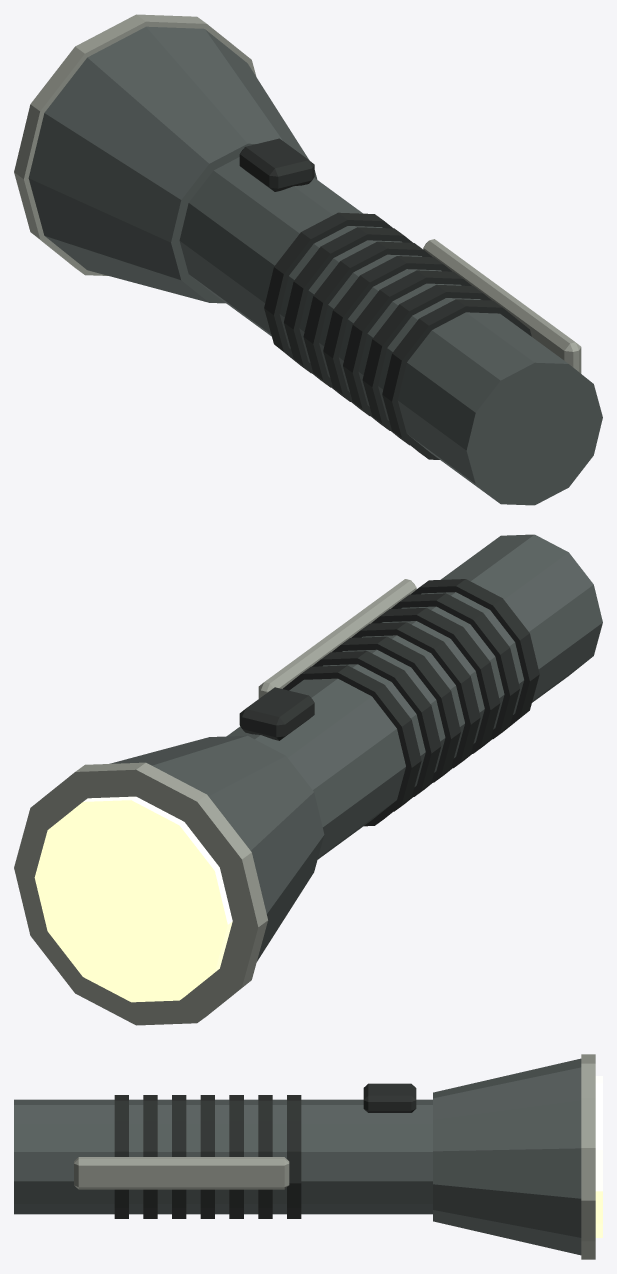
Rendered from torch.glb.
3 views of the same model, one above another, from view 1: azimuth 30°, elevation 25°; view 2: azimuth 150°, elevation 25°; view 3: azimuth 270°, elevation 25° (orthographic). The views are drawn at different scales.
Parts seen in each view (by area): view 1: barrel, reflector housing, bezel, grip ring 6, clip, grip ring 4, grip ring 3, grip ring 1, grip ring 2, grip ring 0, grip ring 5, switch; view 2: barrel, lens, bezel, reflector housing, grip ring 0, grip ring 1, grip ring 3, grip ring 6, grip ring 5, grip ring 4, grip ring 2, clip (+1 smaller); view 3: barrel, reflector housing, clip, bezel, grip ring 0, switch, grip ring 1, grip ring 2, grip ring 5, grip ring 3, grip ring 4, grip ring 6 (+1 smaller).
Boxes of the visible parts, bbox=[...] form: barrel: bbox=[179, 157, 602, 505]; reflector housing: bbox=[28, 26, 317, 303]; bezel: bbox=[14, 14, 256, 275]; grip ring 6: bbox=[382, 299, 531, 459]; clip: bbox=[423, 239, 581, 373]; grip ring 4: bbox=[343, 270, 471, 430]; grip ring 3: bbox=[323, 256, 451, 415]; grip ring 1: bbox=[284, 227, 412, 387]; grip ring 2: bbox=[303, 241, 432, 401]; grip ring 0: bbox=[264, 212, 392, 373]; grip ring 5: bbox=[362, 284, 491, 445]; switch: bbox=[239, 138, 314, 191]; barrel: bbox=[227, 534, 602, 859]; lens: bbox=[34, 796, 232, 1002]; bezel: bbox=[14, 762, 267, 1025]; reflector housing: bbox=[109, 735, 324, 961]; grip ring 0: bbox=[283, 665, 421, 826]; grip ring 1: bbox=[312, 651, 441, 811]; grip ring 3: bbox=[351, 622, 480, 782]; grip ring 6: bbox=[410, 579, 539, 738]; grip ring 5: bbox=[391, 593, 519, 753]; grip ring 4: bbox=[371, 607, 500, 768]; grip ring 2: bbox=[332, 636, 460, 796]; clip: bbox=[258, 579, 416, 698]; barrel: bbox=[14, 1099, 432, 1214]; reflector housing: bbox=[433, 1058, 581, 1255]; clip: bbox=[74, 1157, 289, 1189]; bezel: bbox=[581, 1054, 595, 1259]; grip ring 0: bbox=[287, 1095, 301, 1218]; switch: bbox=[363, 1083, 416, 1112]; grip ring 1: bbox=[258, 1095, 272, 1218]; grip ring 2: bbox=[229, 1095, 243, 1218]; grip ring 5: bbox=[143, 1095, 157, 1218]; grip ring 3: bbox=[200, 1095, 214, 1218]; grip ring 4: bbox=[172, 1095, 186, 1218]; grip ring 6: bbox=[114, 1095, 128, 1218].
Bounding box in the file's own units: 0.086 × 0.086 × 0.246.
